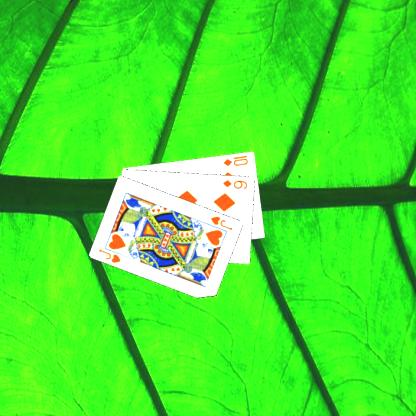10D: (221, 152, 249, 168)
6D: (220, 177, 249, 190)
JH: (208, 213, 234, 232), (96, 246, 122, 264)
